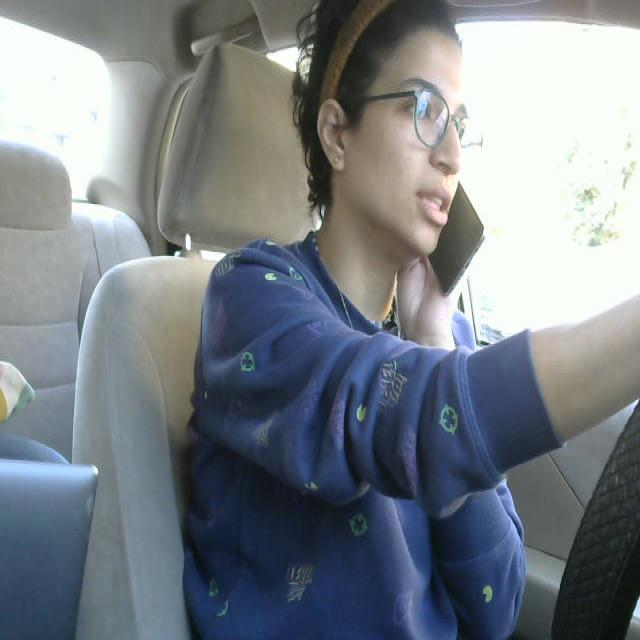mobile use: (430, 174, 490, 300)
